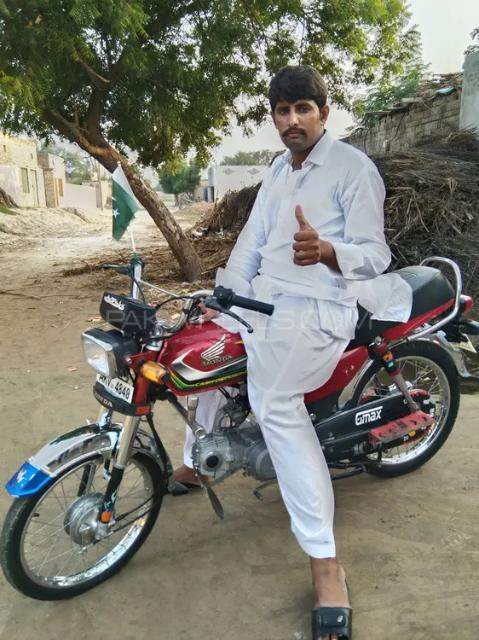Bike: (1, 249, 479, 606)
Person: (193, 58, 398, 381)
